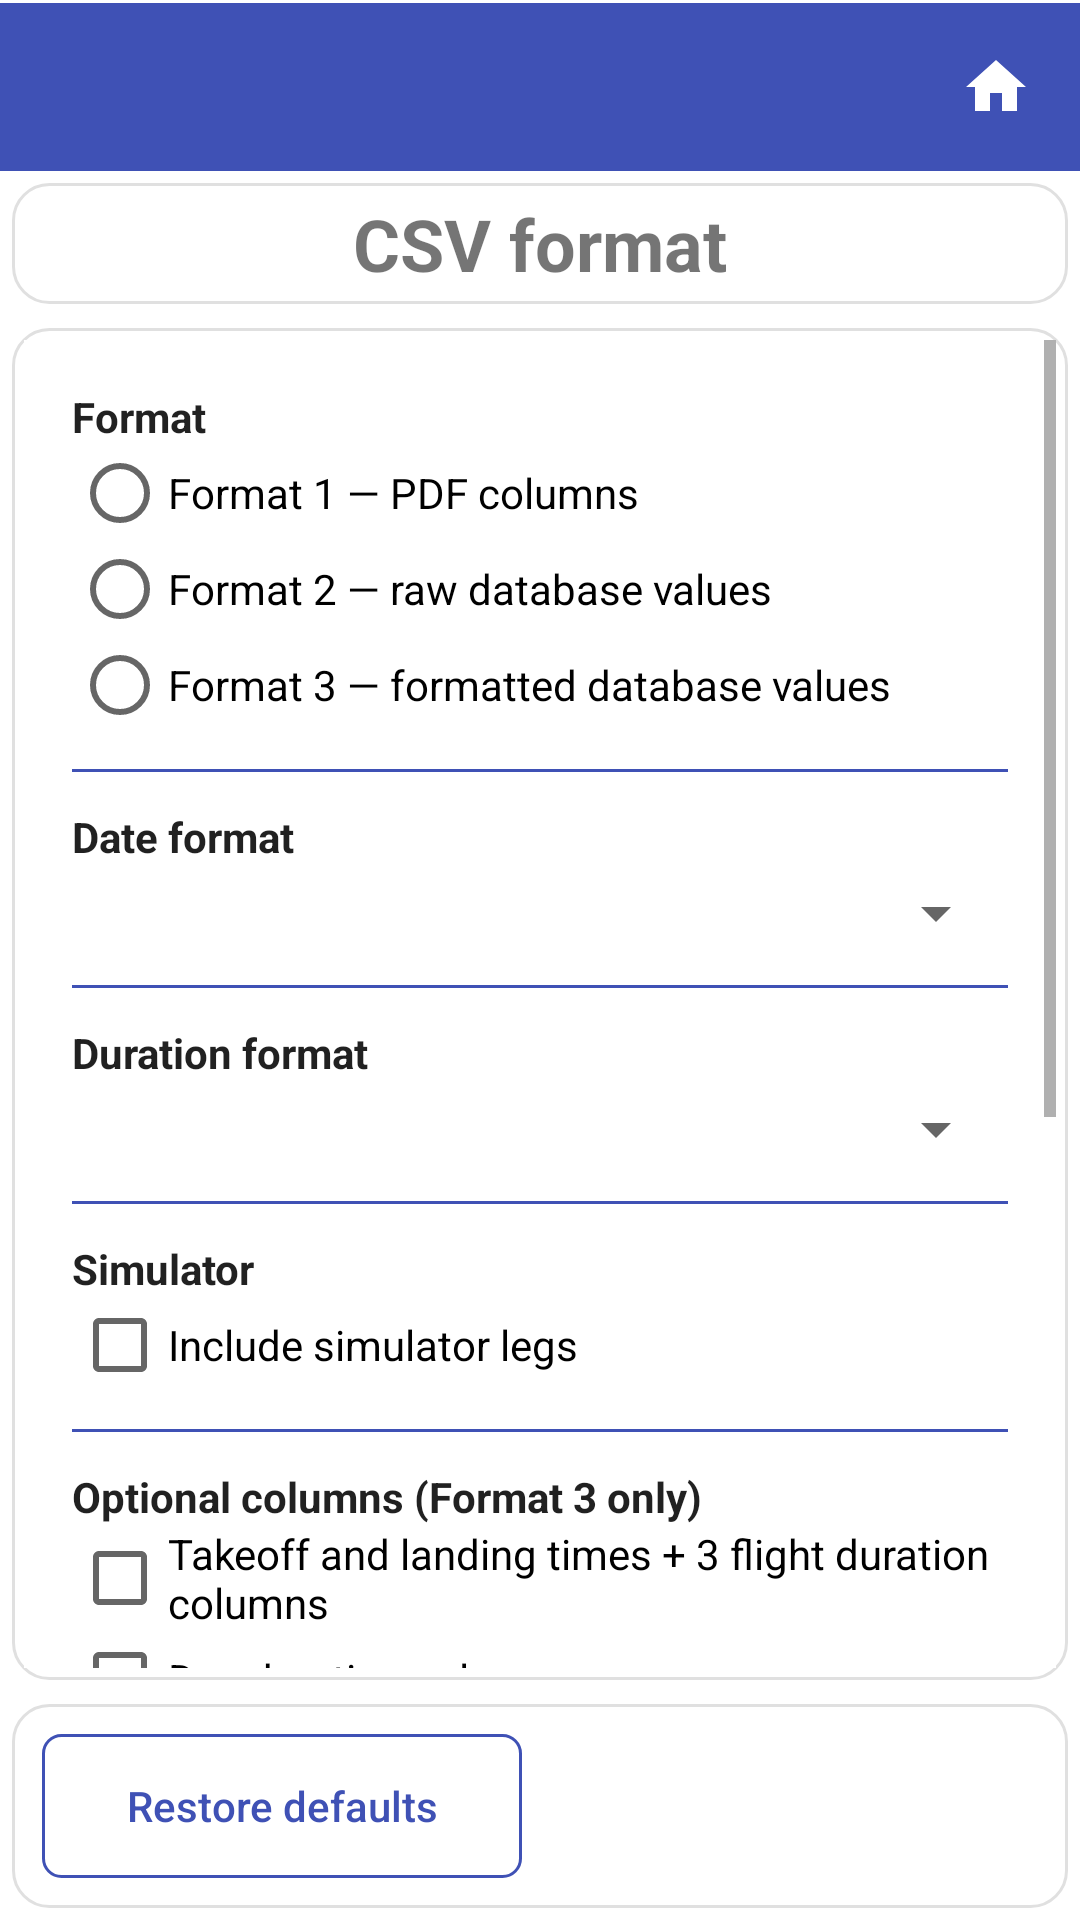

Locate icon controls on the screen. Image size 1080px x 1920px, boxes as Rect(x1, y1, x2, y2).
Home: Rect(966, 60, 1026, 111)
